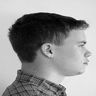ear: (35, 38, 58, 61)
